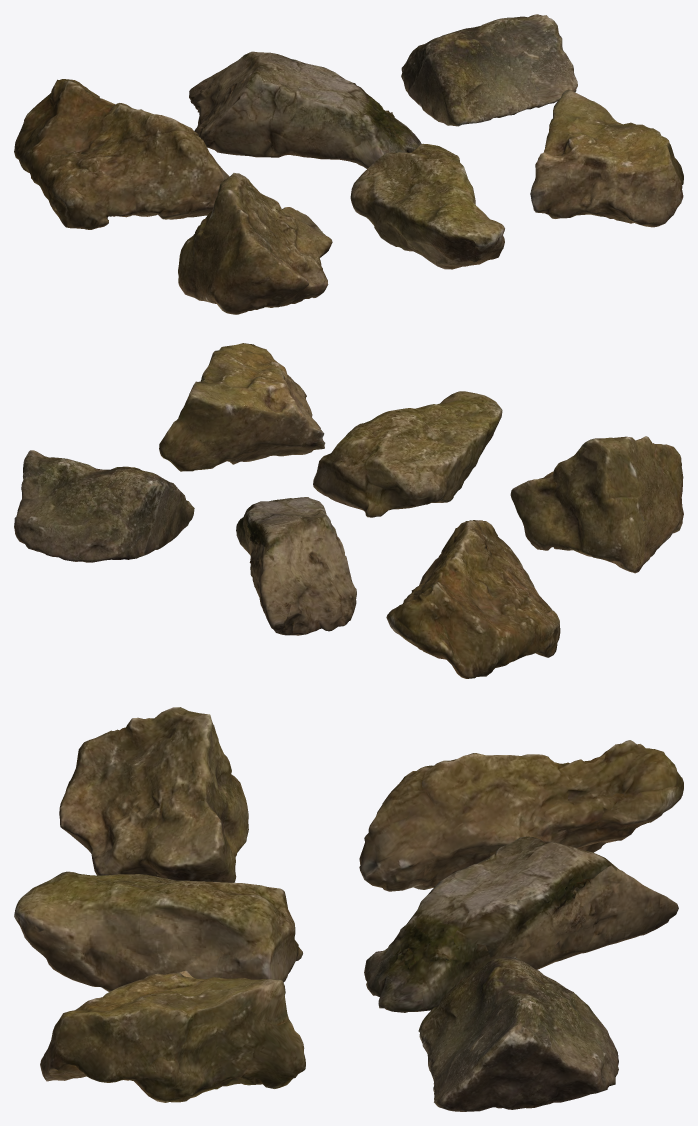
The model's file is rock_moss_set_01.glb.
3 renders of one model, top to bottom at view 1: azimuth 30°, elevation 25°; view 2: azimuth 150°, elevation 25°; view 3: azimuth 270°, elevation 25°, orthographic. The views are drawn at different scales.
Parts seen in each view (by area): view 1: rock_moss_set_01_rock01, rock_moss_set_01_rock02, rock_moss_set_01_rock06, rock_moss_set_01_rock04, rock_moss_set_01_rock03, rock_moss_set_01_rock05; view 2: rock_moss_set_01_rock04, rock_moss_set_01_rock01, rock_moss_set_01_rock05, rock_moss_set_01_rock03, rock_moss_set_01_rock06, rock_moss_set_01_rock02; view 3: rock_moss_set_01_rock01, rock_moss_set_01_rock02, rock_moss_set_01_rock05, rock_moss_set_01_rock06, rock_moss_set_01_rock04, rock_moss_set_01_rock03.
Part boxes in pixels (x1=…): rock_moss_set_01_rock01: x1=14, y1=79, x2=229, y2=229; rock_moss_set_01_rock02: x1=189, y1=51, x2=421, y2=168; rock_moss_set_01_rock06: x1=530, y1=89, x2=683, y2=227; rock_moss_set_01_rock04: x1=178, y1=173, x2=332, y2=314; rock_moss_set_01_rock03: x1=401, y1=14, x2=577, y2=126; rock_moss_set_01_rock05: x1=350, y1=143, x2=504, y2=269; rock_moss_set_01_rock04: x1=510, y1=436, x2=683, y2=573; rock_moss_set_01_rock01: x1=386, y1=520, x2=560, y2=678; rock_moss_set_01_rock05: x1=313, y1=391, x2=502, y2=517; rock_moss_set_01_rock03: x1=14, y1=450, x2=194, y2=562; rock_moss_set_01_rock06: x1=159, y1=343, x2=325, y2=471; rock_moss_set_01_rock02: x1=236, y1=497, x2=356, y2=635; rock_moss_set_01_rock01: x1=359, y1=740, x2=683, y2=891; rock_moss_set_01_rock02: x1=364, y1=836, x2=678, y2=1012; rock_moss_set_01_rock05: x1=14, y1=871, x2=302, y2=991; rock_moss_set_01_rock06: x1=40, y1=970, x2=305, y2=1102; rock_moss_set_01_rock04: x1=59, y1=707, x2=248, y2=882; rock_moss_set_01_rock03: x1=418, y1=956, x2=618, y2=1111.
Bounding box in the file's own units: 8 × 1.77 × 6.94.
Materials: 1 (1 with a texture image).
